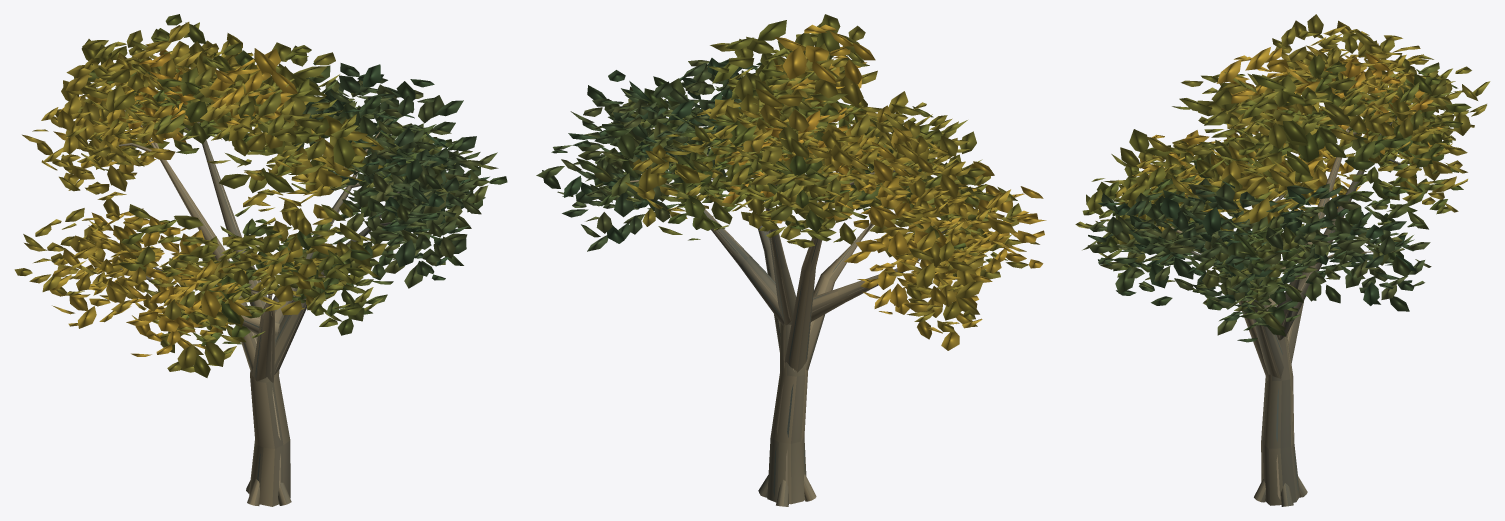
File: HK_Tree_RoundLow.glb
3 renders of one model, left to right at view 1: azimuth 30°, elevation 25°; view 2: azimuth 150°, elevation 25°; view 3: azimuth 270°, elevation 25°, orthographic. The views are drawn at different scales.
Parts seen in each view (by area): view 1: HK_Tree_RoundLow; view 2: HK_Tree_RoundLow; view 3: HK_Tree_RoundLow.
Boxes of the visible parts, x1,y1,x2,y2 form: HK_Tree_RoundLow: [14, 14, 507, 506]; HK_Tree_RoundLow: [536, 14, 1046, 506]; HK_Tree_RoundLow: [1075, 14, 1490, 506].
Bounding box in the file's own units: 8.06 × 8.39 × 7.11.
